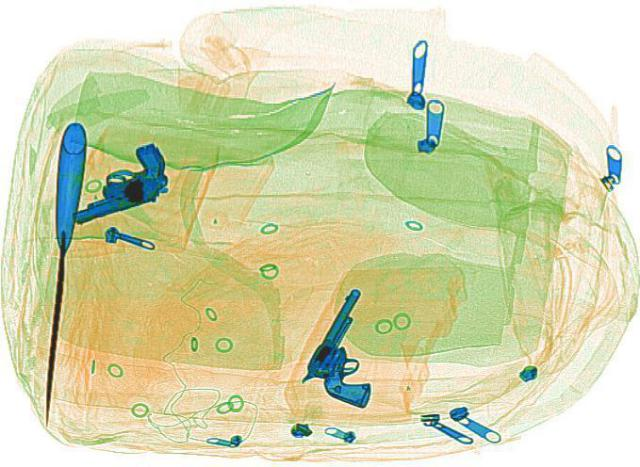Gun: (284, 283, 428, 407), (42, 140, 186, 222)
Knife: (30, 118, 86, 427)
